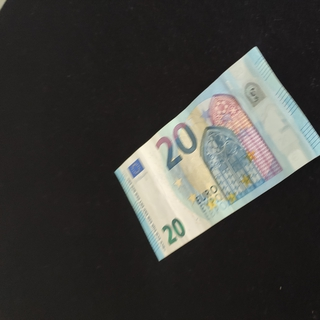20EUROFront: (113, 45, 320, 262)
